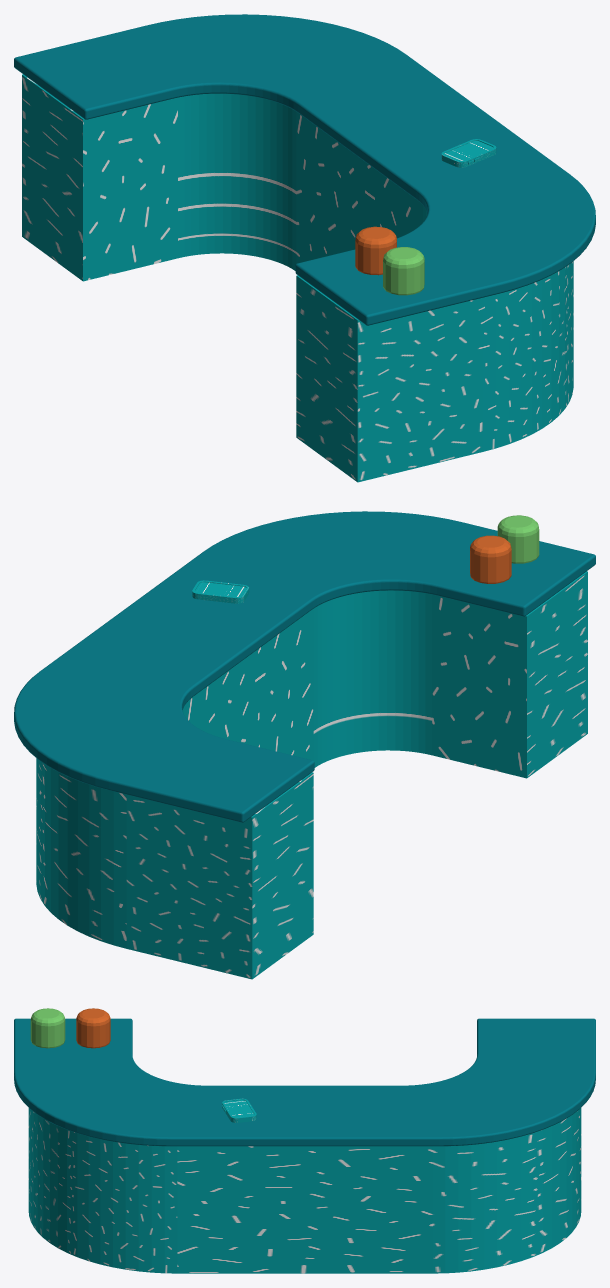
The model's file is BarTable.FBX.
The picture shows the model from 3 angles, top to bottom: view 1: azimuth 30°, elevation 25°; view 2: azimuth 150°, elevation 25°; view 3: azimuth 270°, elevation 25°; orthographic projection. The views are drawn at different scales.
Parts seen in each view (by area): view 1: BarTable; view 2: BarTable; view 3: BarTable.
Part boxes in pixels (<box>): BarTable: <box>14,14,595,482</box>; BarTable: <box>14,511,595,979</box>; BarTable: <box>14,1008,595,1273</box>.
Size of the model in its own units: 143 by 94.6 by 294.
